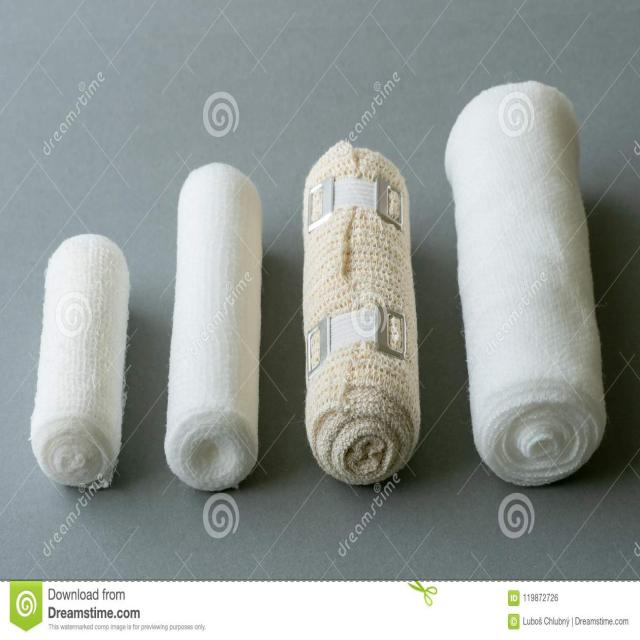B3: (432, 63, 622, 489), (280, 127, 434, 499), (155, 155, 275, 506), (23, 222, 140, 508)
